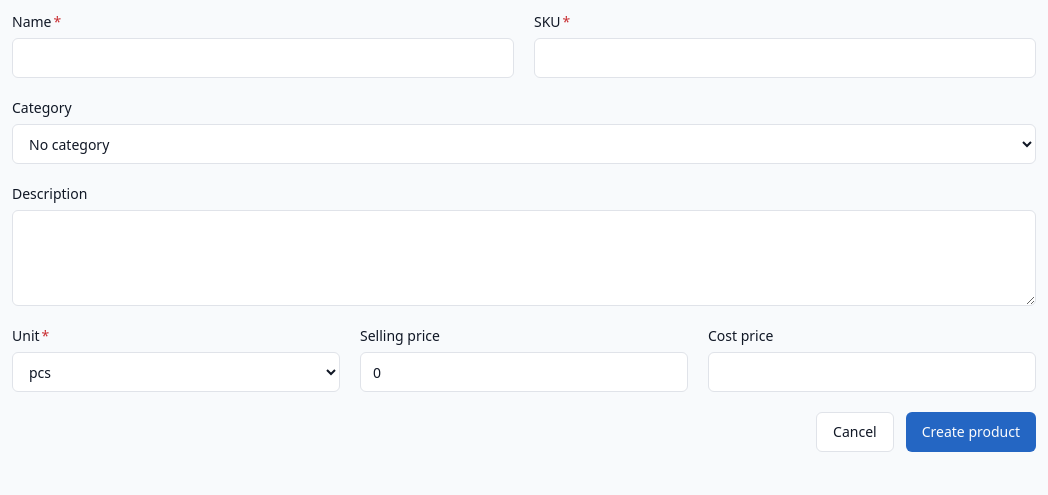
Product form › renders accessible fields and blocks an invalid create submission
The width and height of the screenshot is (1048, 495).
Expected: the text box labelled "Description" is shown, [12,210,1036,306]
Expected: the dropdown labelled "Unit*" is shown, [12,352,340,392]
Click the button "Create product": click(971, 432) [906,412,1036,452]
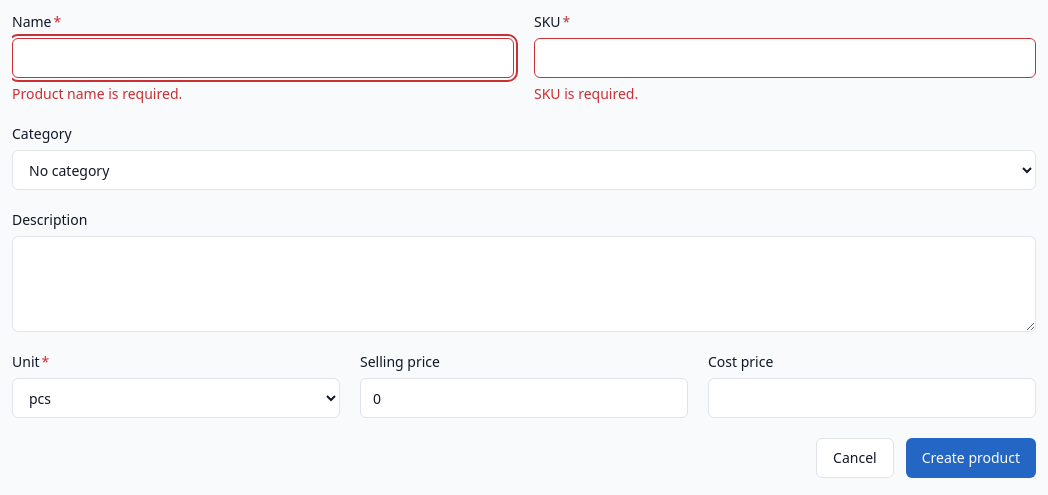
Expected: the text "Product name is required." is shown, [12,84,182,103]
Expected: the text "SKU is required." is shown, [534,84,638,103]
